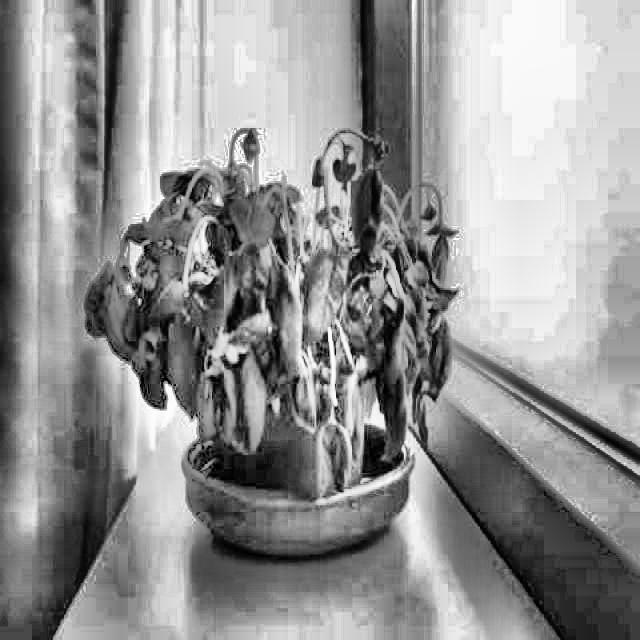plants: (79, 119, 469, 554)
